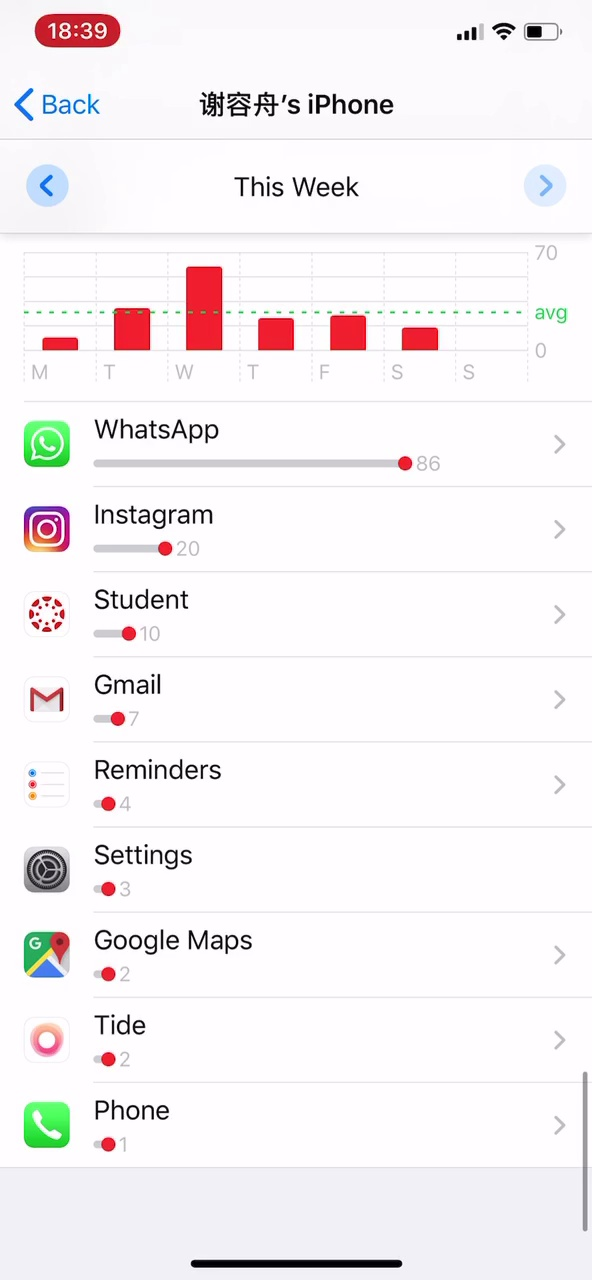not_app: (20, 403, 478, 486), (20, 914, 272, 996), (18, 489, 249, 574), (20, 746, 262, 825), (18, 1003, 221, 1083), (17, 834, 227, 911), (18, 1089, 215, 1169), (17, 660, 200, 742), (17, 583, 219, 657)
week: (223, 163, 372, 216)
